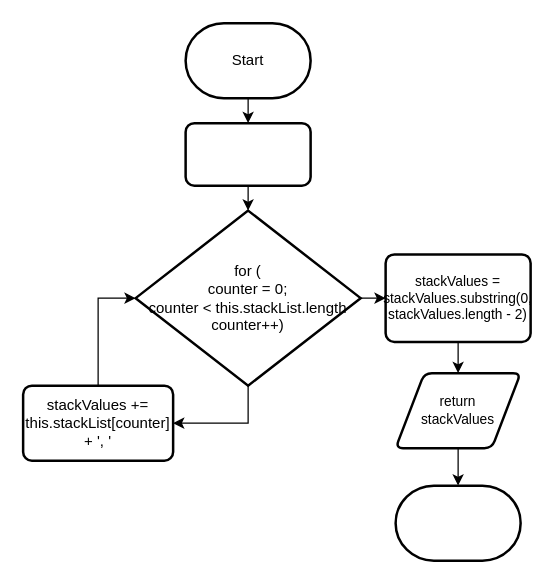
This 554x583 diagram has some shape labels left out. Each missing label, with the centre of its shape:
stackValues = ' ': the point at 247,153
Stop: the point at 457,522
